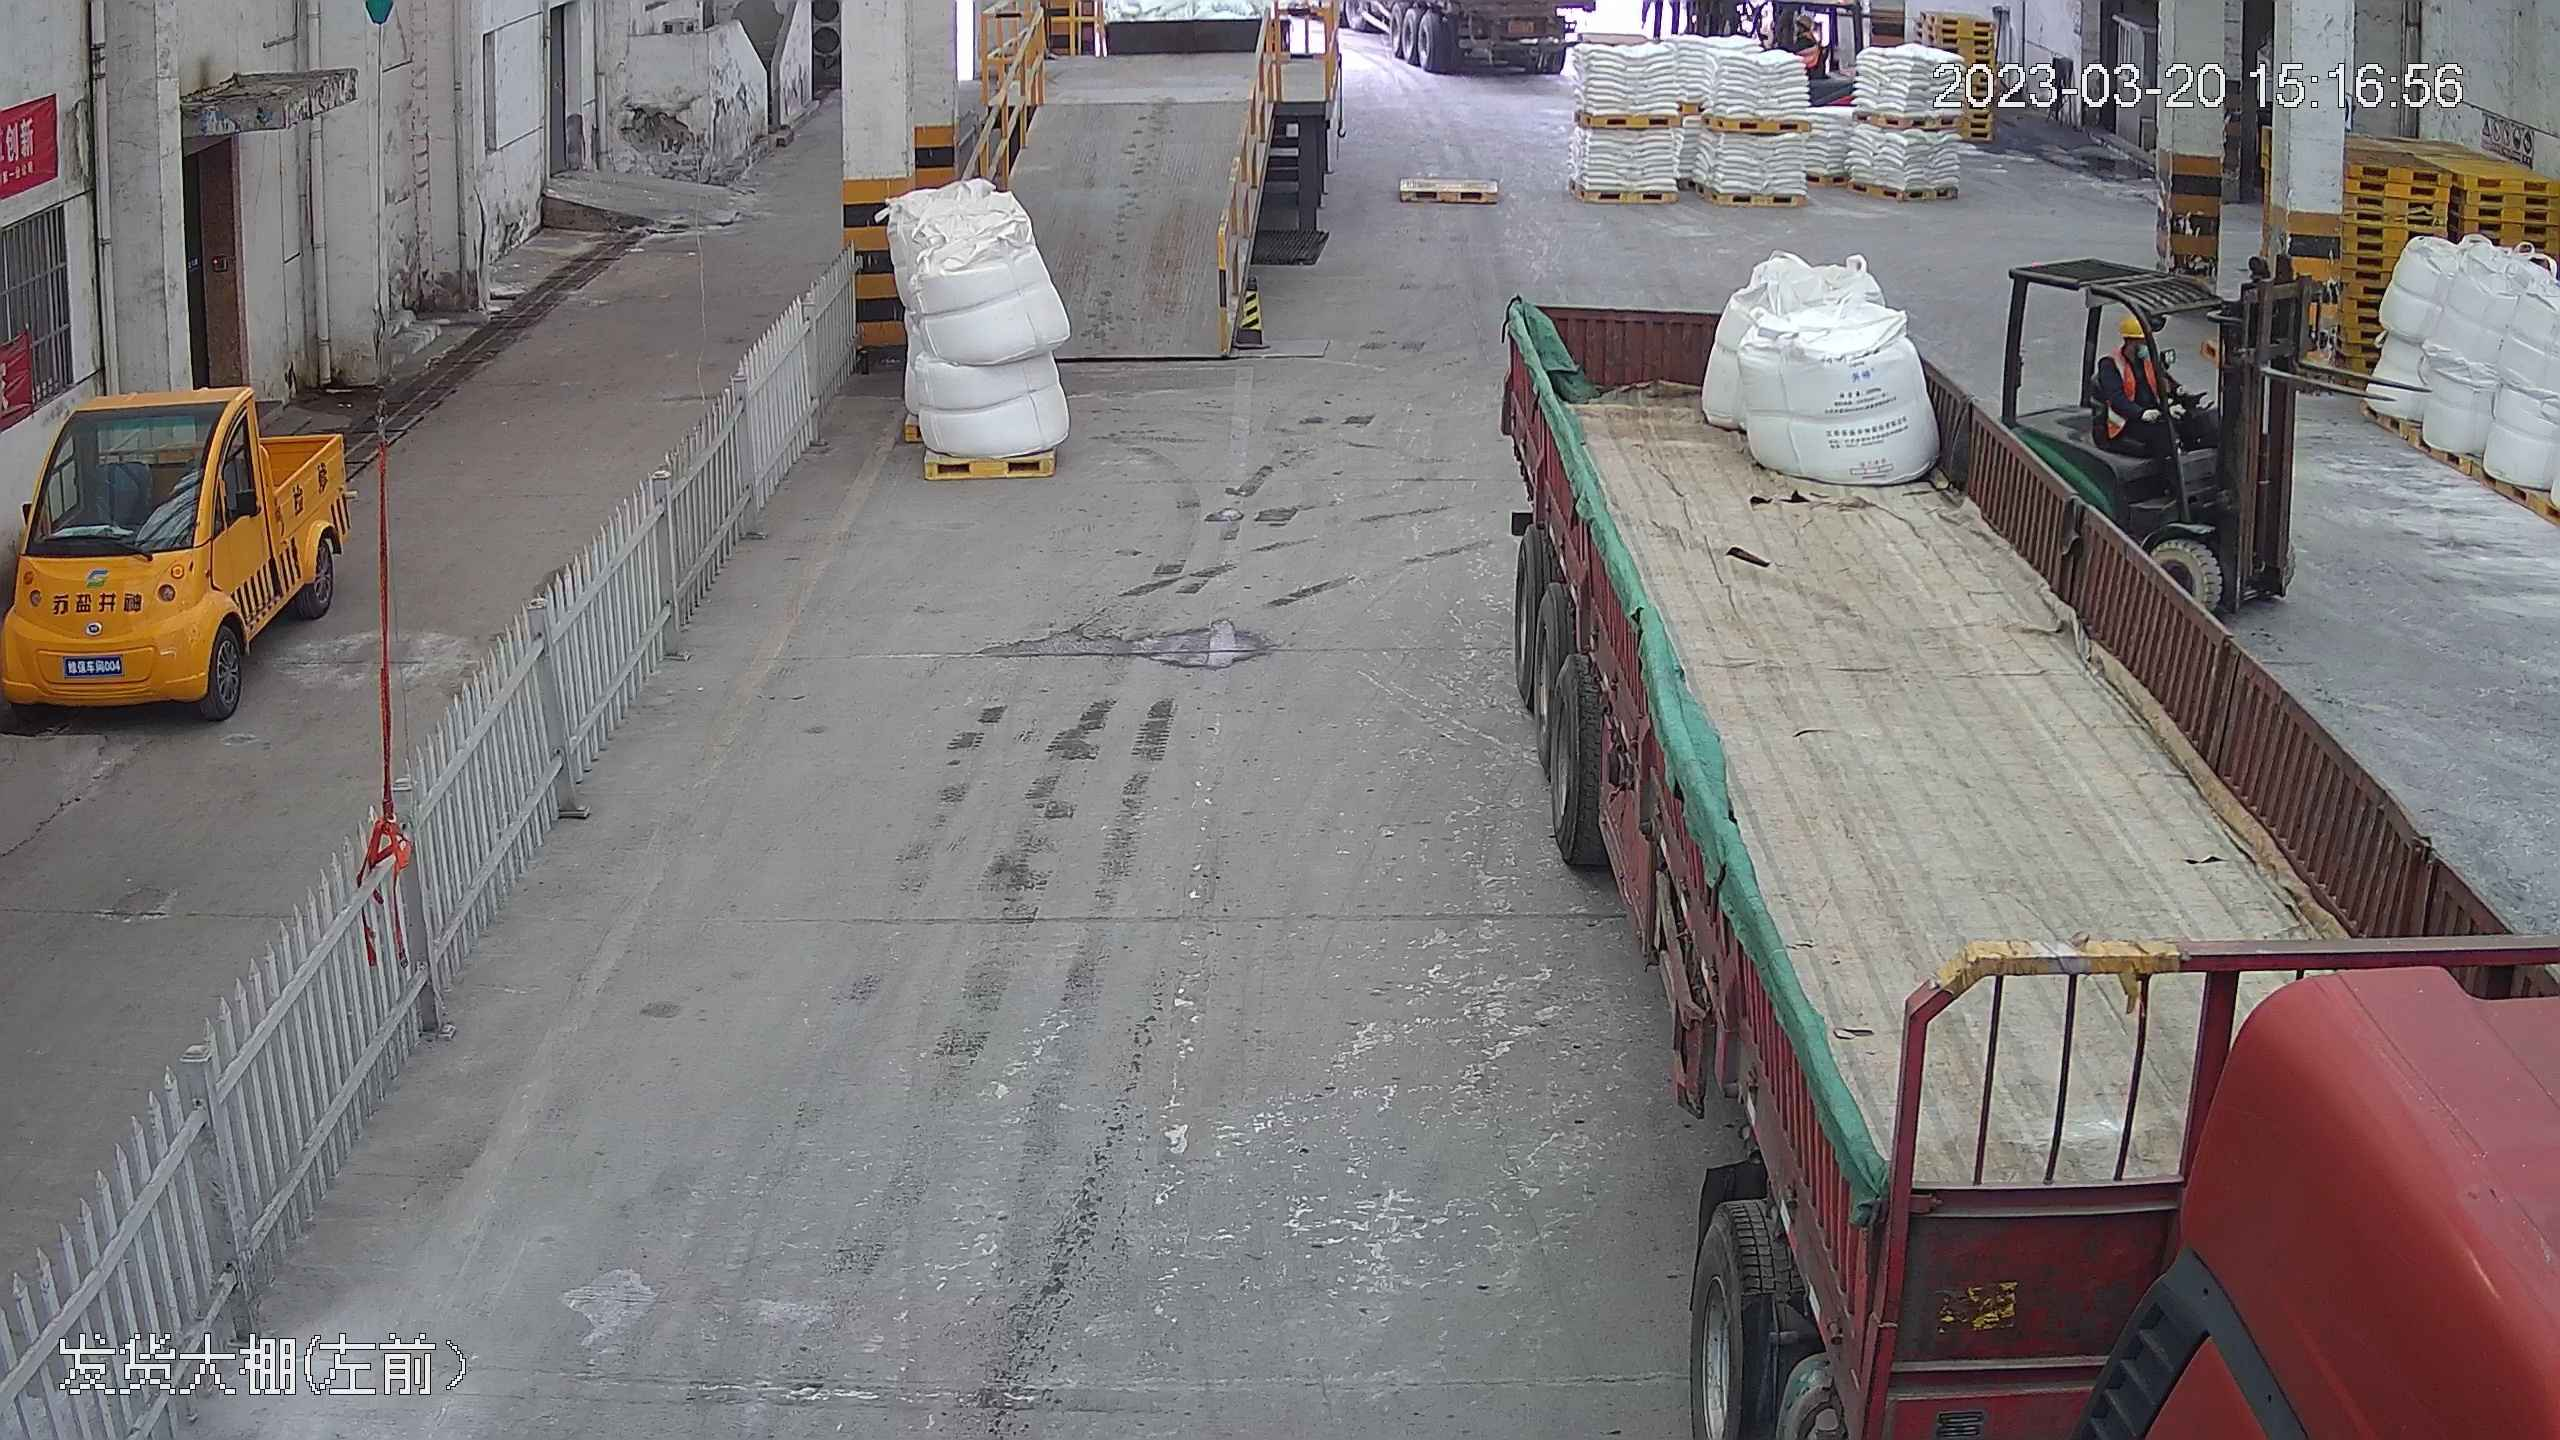head: (2094, 307, 2197, 464), (2096, 310, 2167, 388)
helmet: (2113, 310, 2152, 340)
people: (2090, 308, 2209, 499)
truck: (1483, 151, 2560, 1435)
